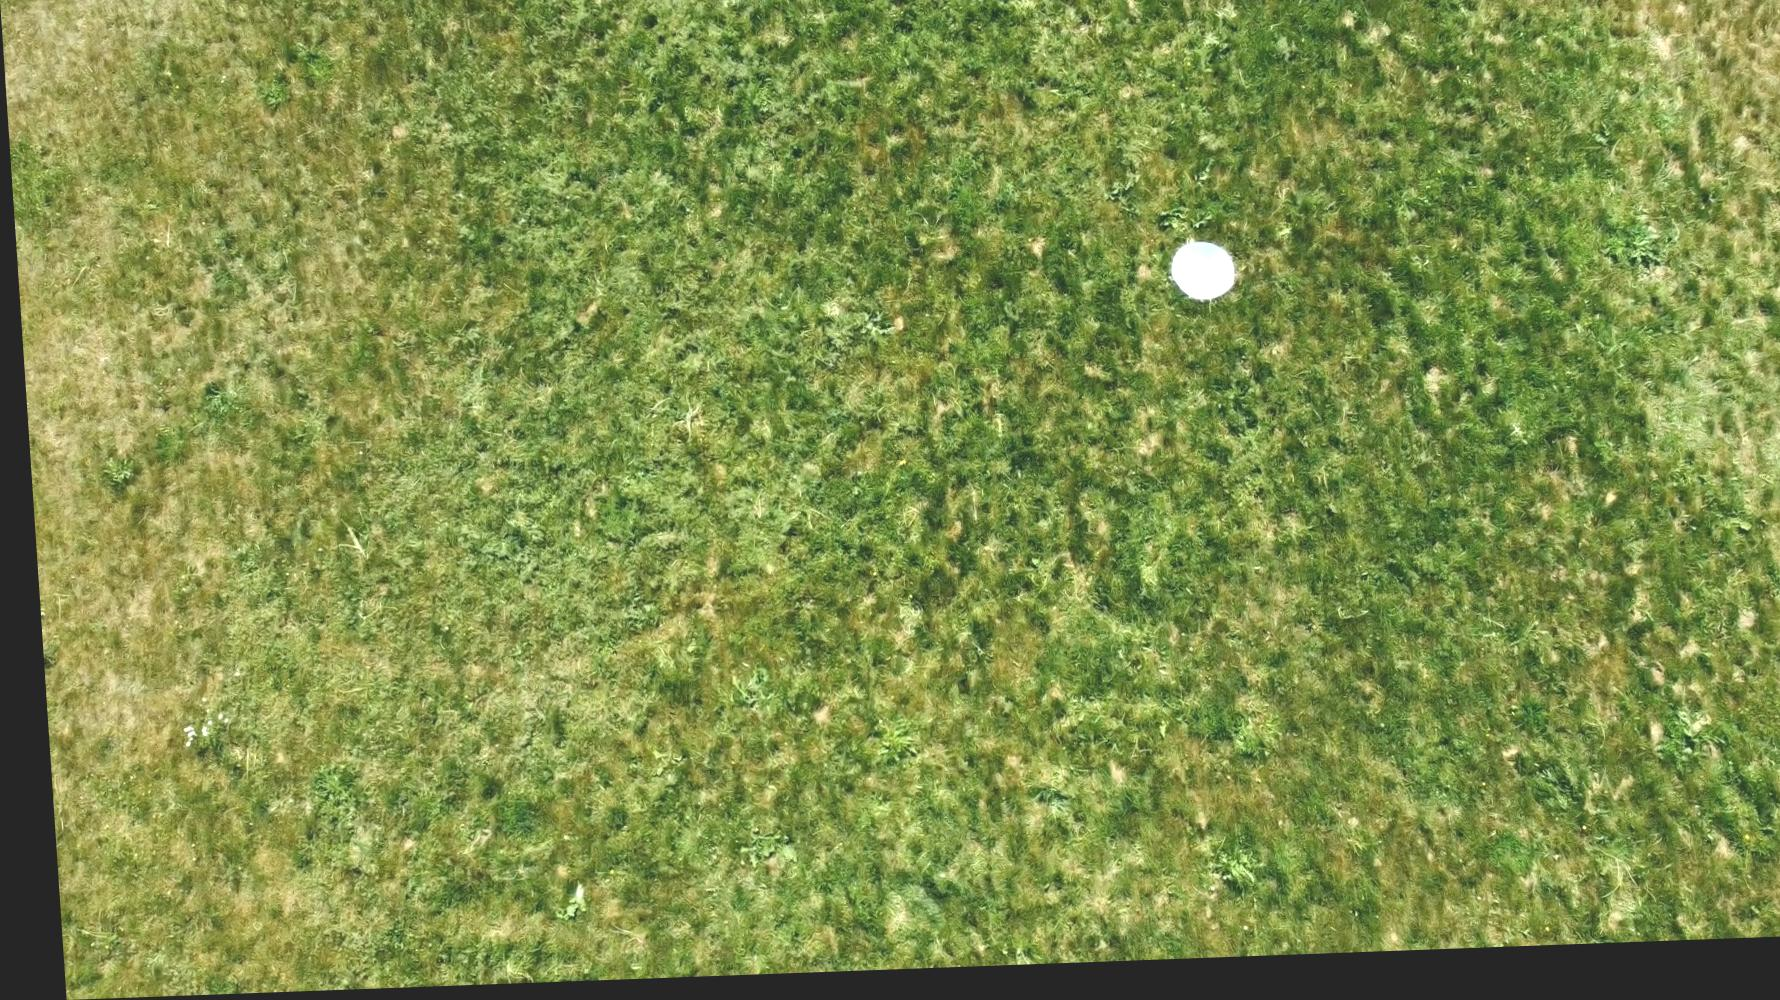Blue: (1160, 244, 1237, 313)
